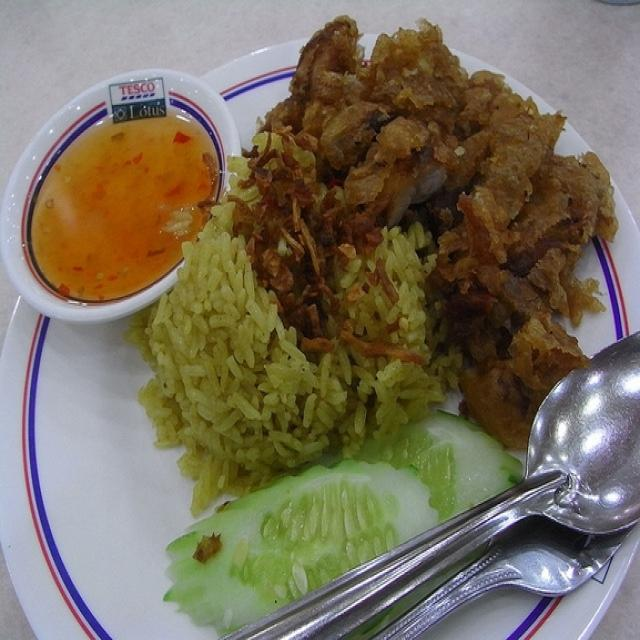米饭主食: (4, 13, 624, 628)
